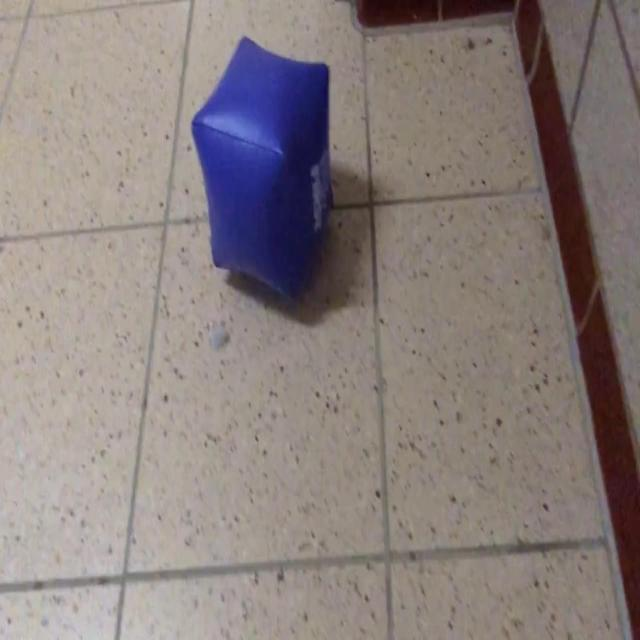frc_cube: (190, 35, 334, 309)
